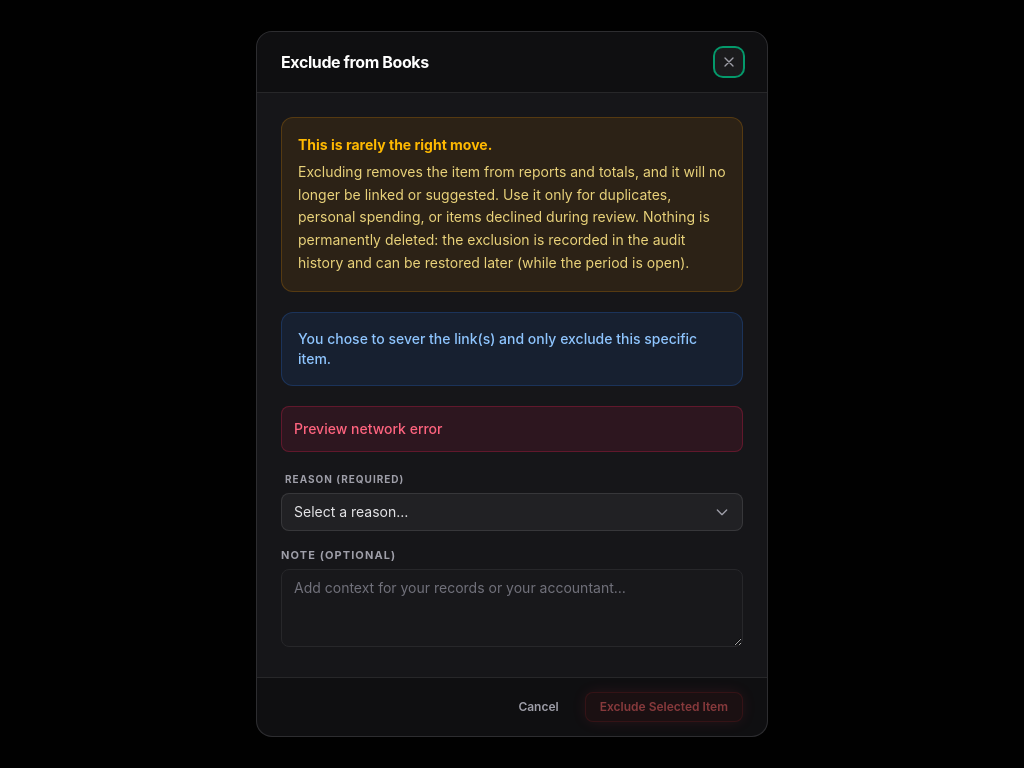
Test: ExcludeItemModal › handles bulk exclusion targets, blocked preview state, and API errors
Later steps or results of the test are not shown.
Expected: the text "Preview network error" is shown, [281, 406, 743, 452]
Click the button named "Reason (required)". click: (351, 511)
box: [281, 492, 743, 530]
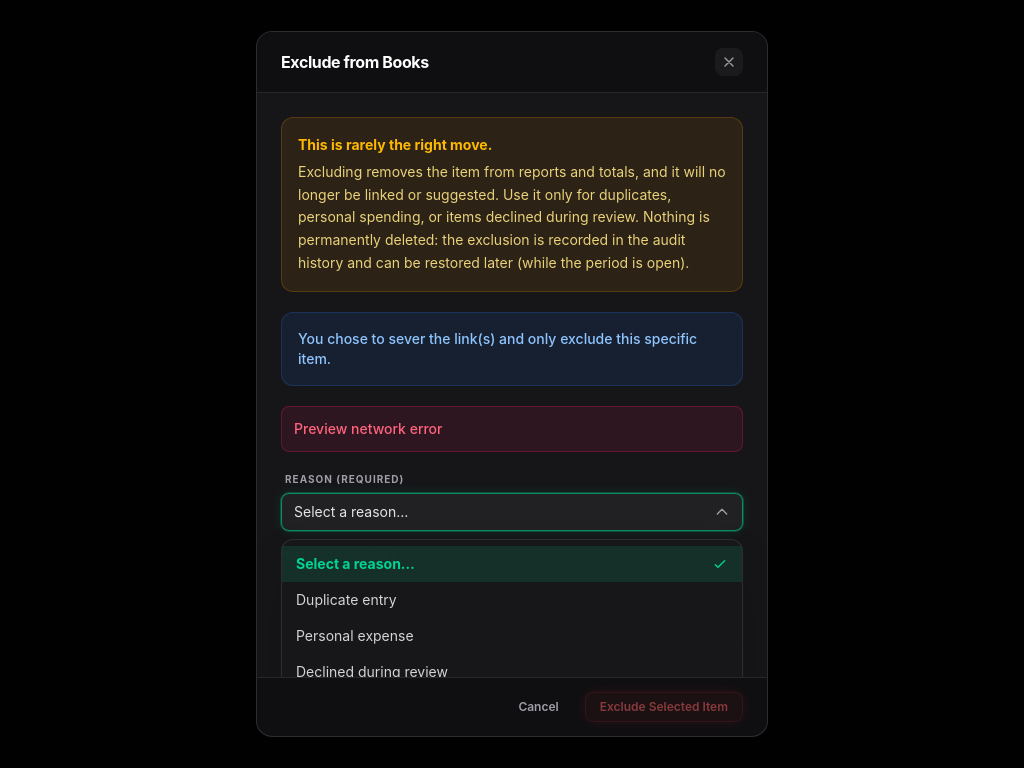
Click the option "Duplicate entry". click: (346, 599)
box: [282, 582, 742, 618]
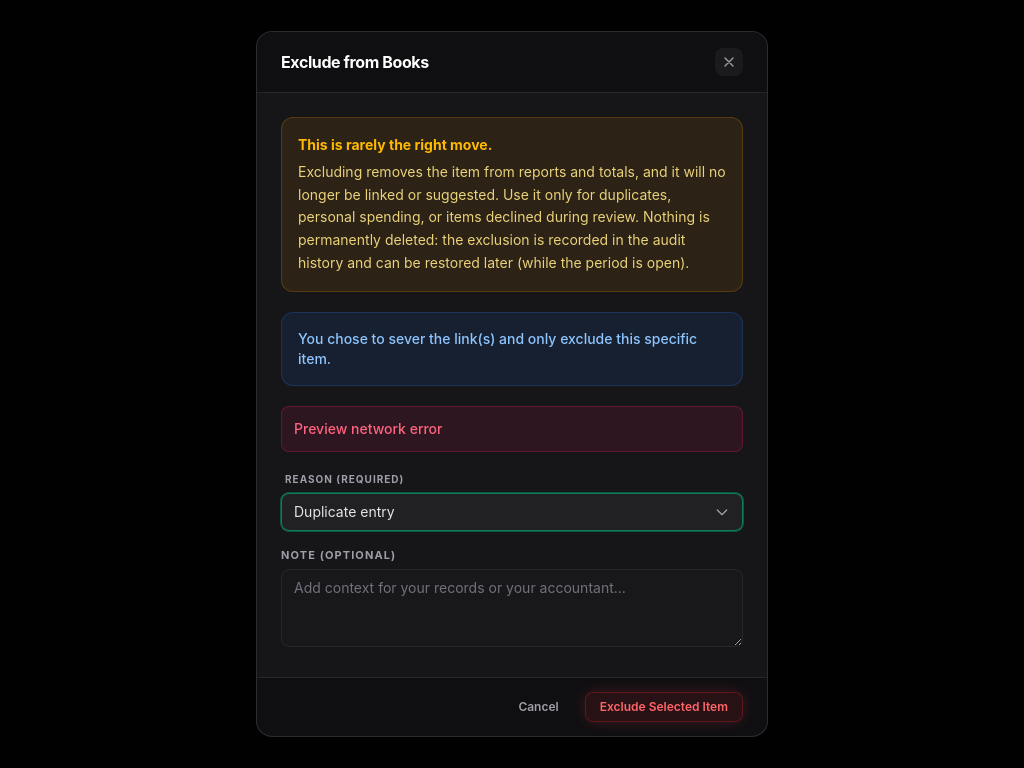
Click the button "Exclude Selected Item". click: (664, 707)
box: [585, 692, 743, 722]
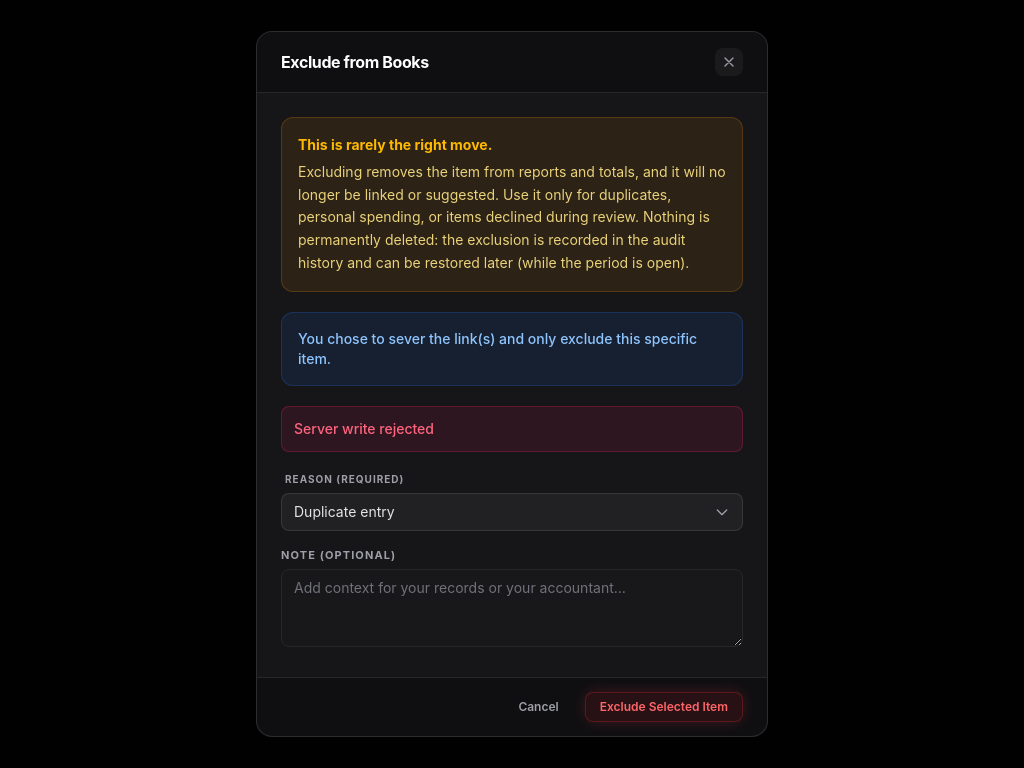
Expected: the message reads "Server write rejected", [294, 420, 434, 436]
